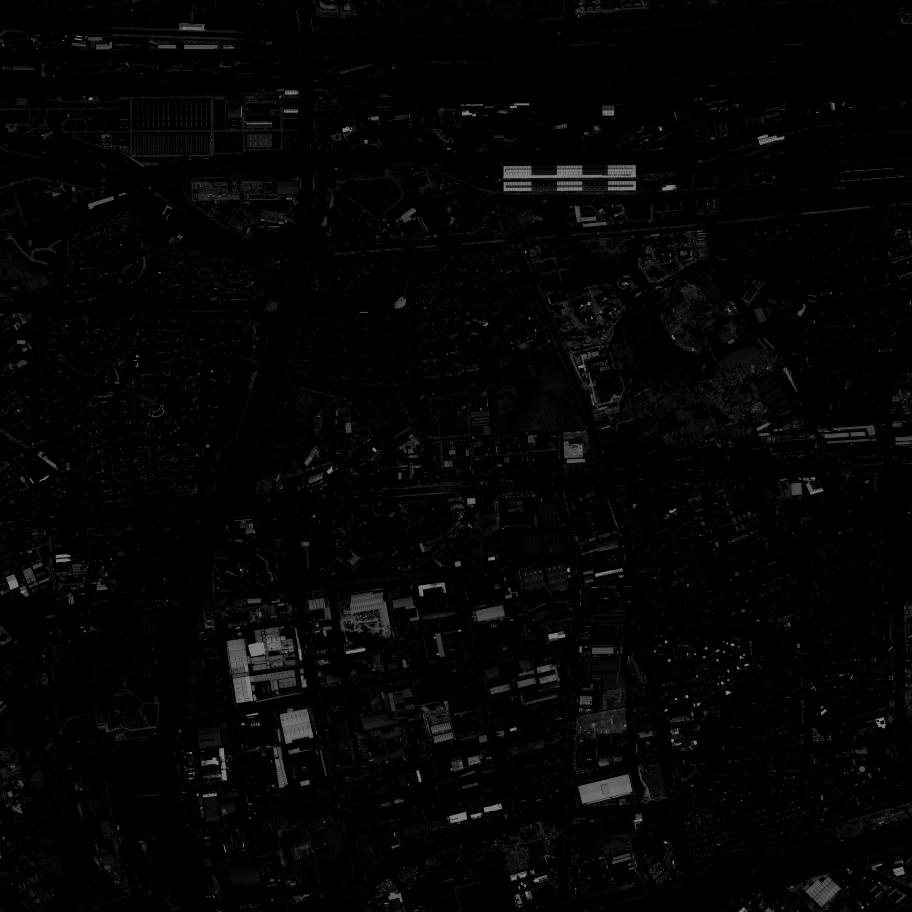storage-tank: (20, 346, 27, 352)
